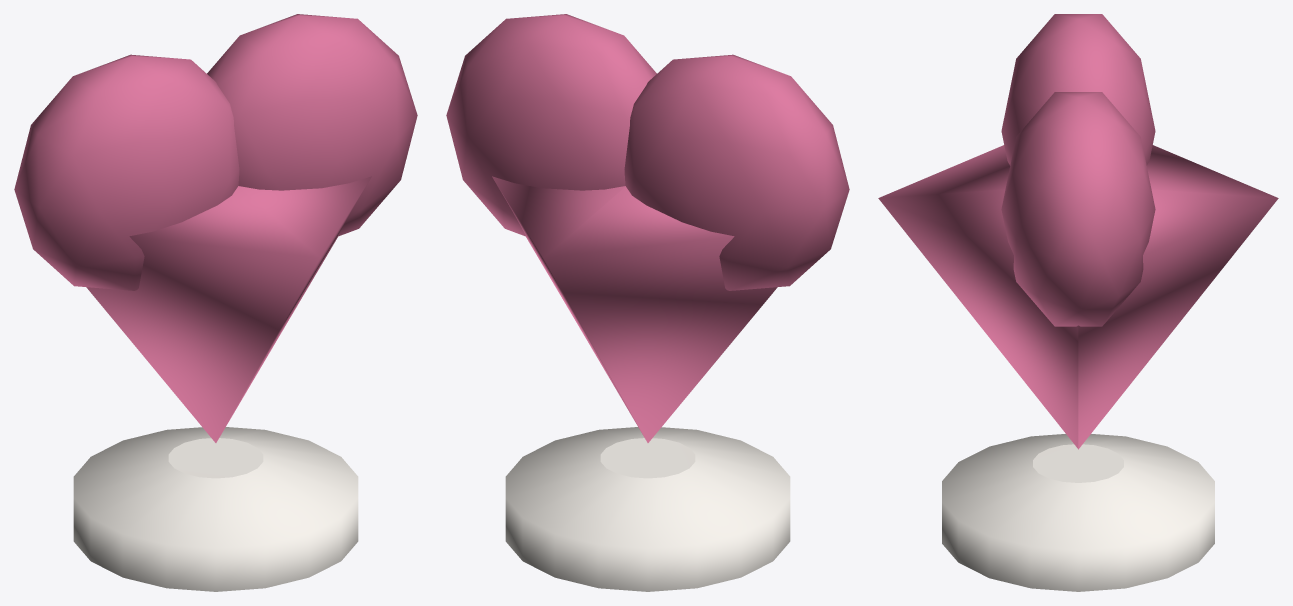
The model's file is furn_heart_lamp.glb.
The picture shows the model from 3 angles, left to right: view 1: azimuth 30°, elevation 25°; view 2: azimuth 150°, elevation 25°; view 3: azimuth 270°, elevation 25°; orthographic projection. The views are drawn at different scales.
Parts seen in each view (by area): view 1: furn_heart_lamp_glow, furn_heart_lamp_main; view 2: furn_heart_lamp_glow, furn_heart_lamp_main; view 3: furn_heart_lamp_glow, furn_heart_lamp_main.
Boxes of the visible parts, left/top/right/bottom form: furn_heart_lamp_glow: left=14, top=14, right=417, bottom=442; furn_heart_lamp_main: left=73, top=427, right=358, bottom=591; furn_heart_lamp_glow: left=446, top=14, right=849, bottom=442; furn_heart_lamp_main: left=505, top=427, right=790, bottom=591; furn_heart_lamp_glow: left=878, top=14, right=1278, bottom=449; furn_heart_lamp_main: left=942, top=434, right=1214, bottom=591.
Size of the model in its own units: 0.2722 by 0.34 by 0.26.
